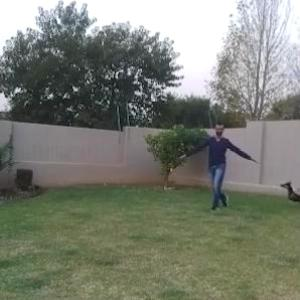land: (171, 115, 249, 206)
